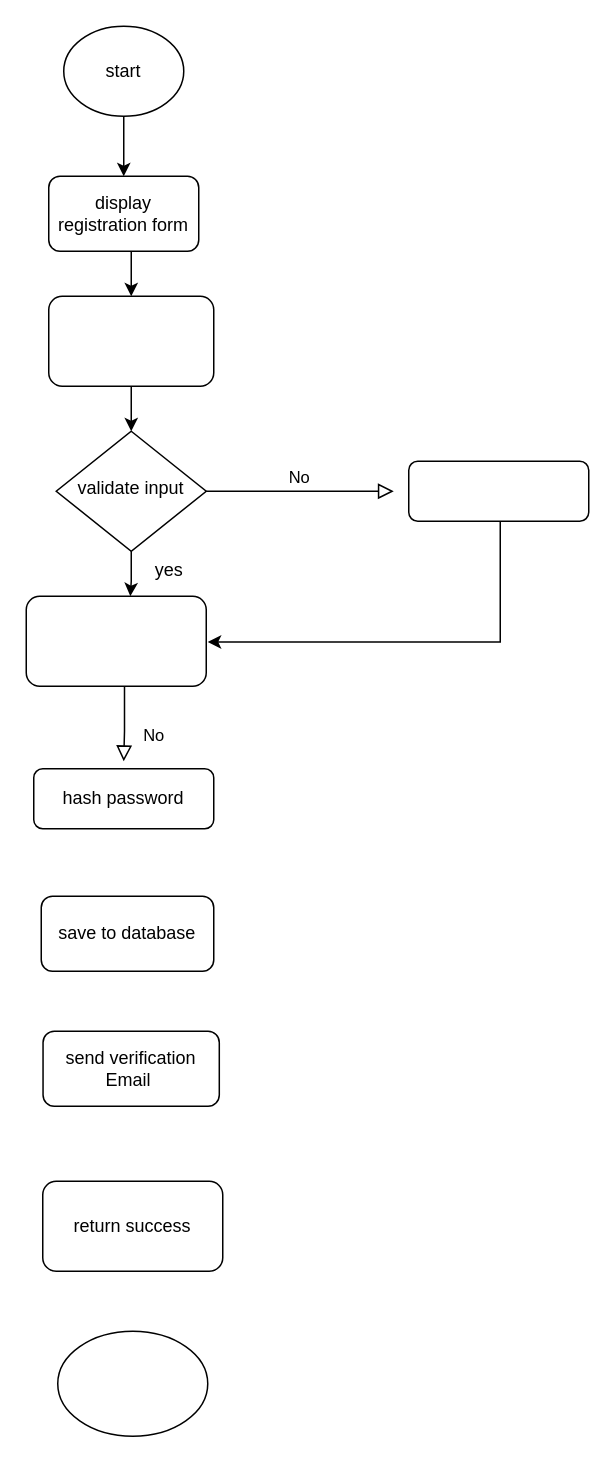
This 615x1463 diagram has some shape labels left out. The centre of each missing label's shape, as x and y in pixels:
"check email unique" goes at point (115, 640).
"show error message" goes at point (498, 490).
"stop" goes at point (132, 1383).
"user enter email password name" goes at point (130, 340).
